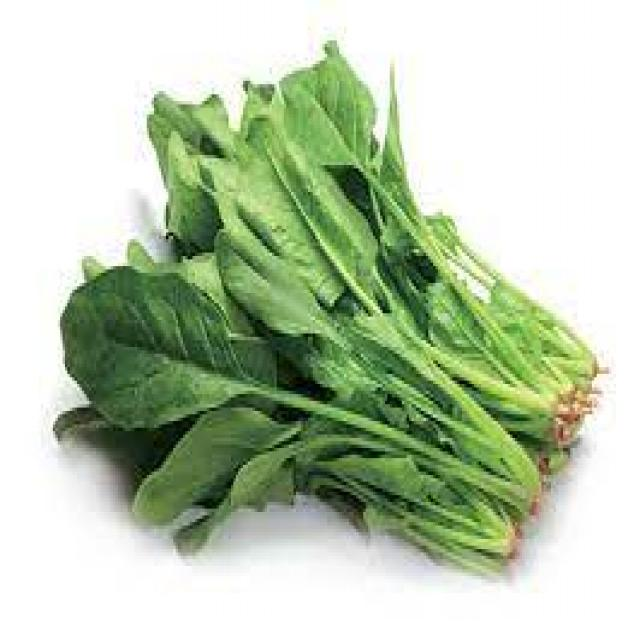spinach: (60, 44, 599, 573)
